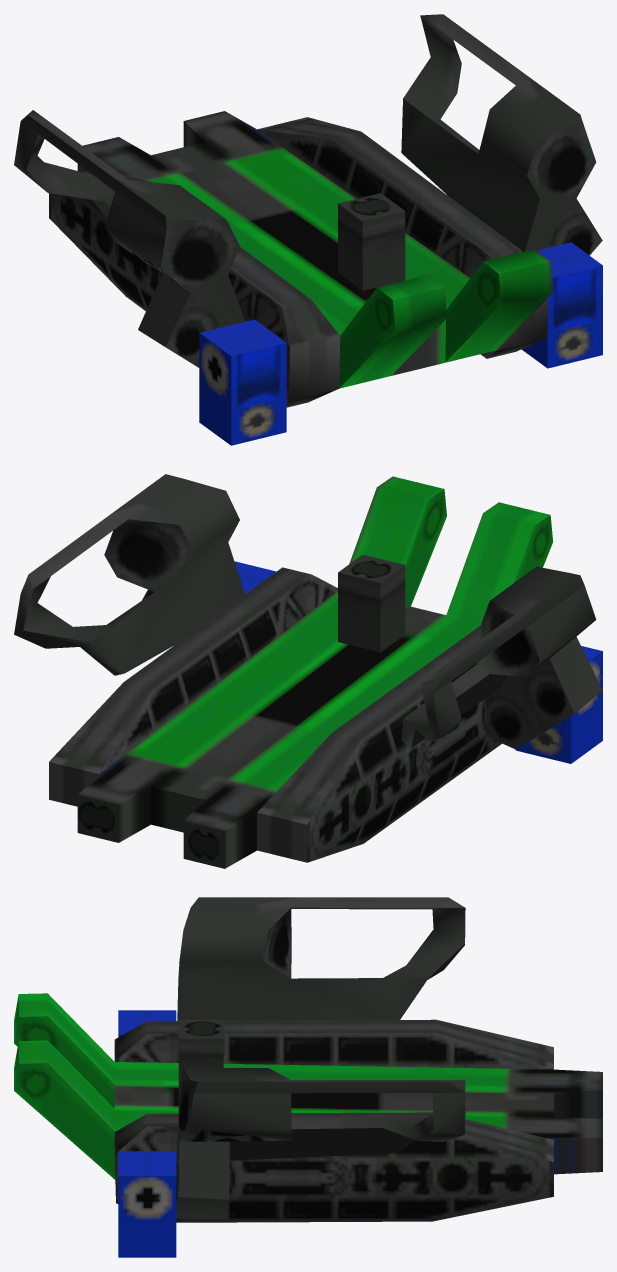
The model's file is Sled.obj.
3 views of the same model, one above another, from view 1: azimuth 30°, elevation 25°; view 2: azimuth 150°, elevation 25°; view 3: azimuth 270°, elevation 25° (orthographic). The views are drawn at different scales.
Bounding box in the file's own units: 1.88 × 0.8326 × 2.4.
1 material, 1 textured.
